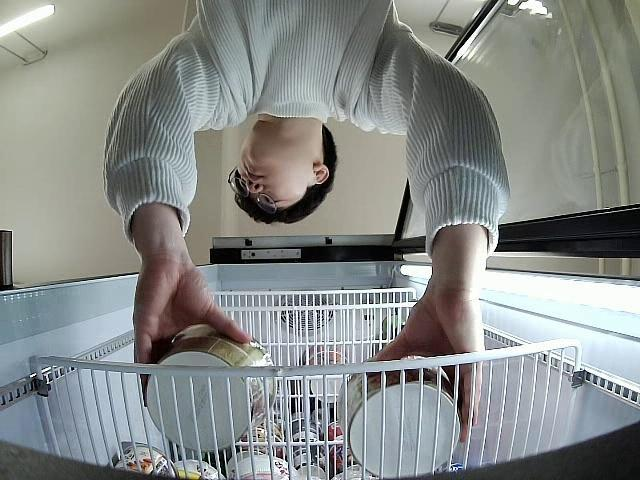03_chapagetti_L: (146, 325, 278, 452), (337, 366, 460, 480)
